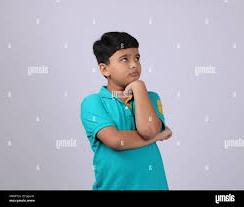Human: (80, 28, 176, 207)
